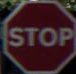Stop: (4, 4, 70, 62)
